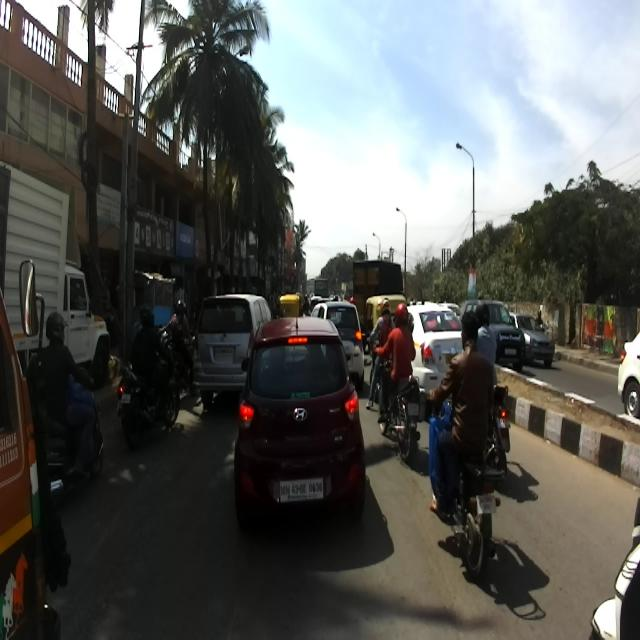Car_Hyundai: (233, 313, 365, 538)
Car_Maruti-Suzuki: (391, 305, 463, 409), (459, 299, 525, 372)
Car_Toyota: (193, 292, 274, 407)
motorcycle: (374, 347, 422, 461), (158, 329, 194, 395), (365, 332, 393, 402)
motorcycle_TVS: (424, 391, 502, 581)
motorcycle_bajaj: (123, 327, 179, 452)
scooter: (30, 368, 104, 503), (116, 323, 169, 422)
